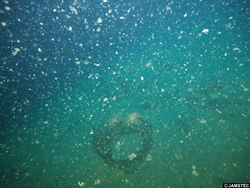rope: (88, 113, 157, 173)
